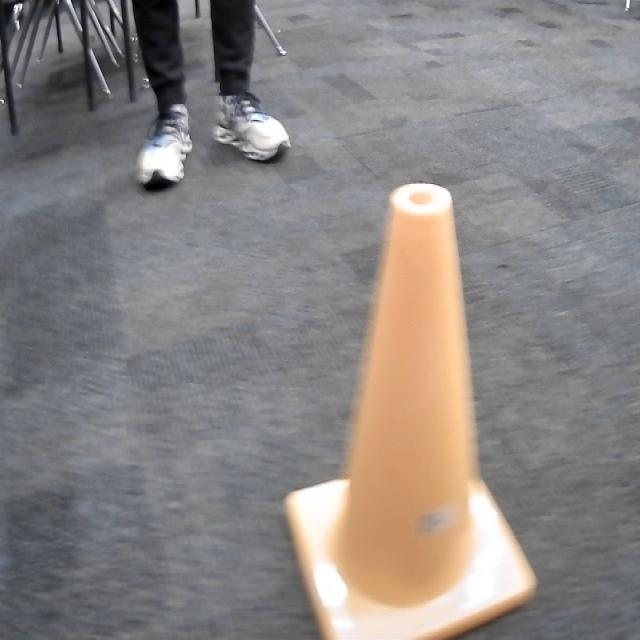cone: (286, 179, 538, 640)
